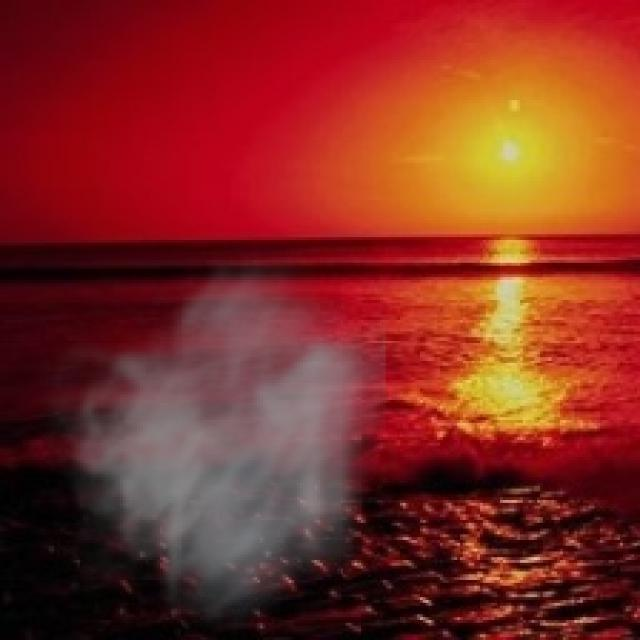Smoke: (34, 245, 389, 638)
